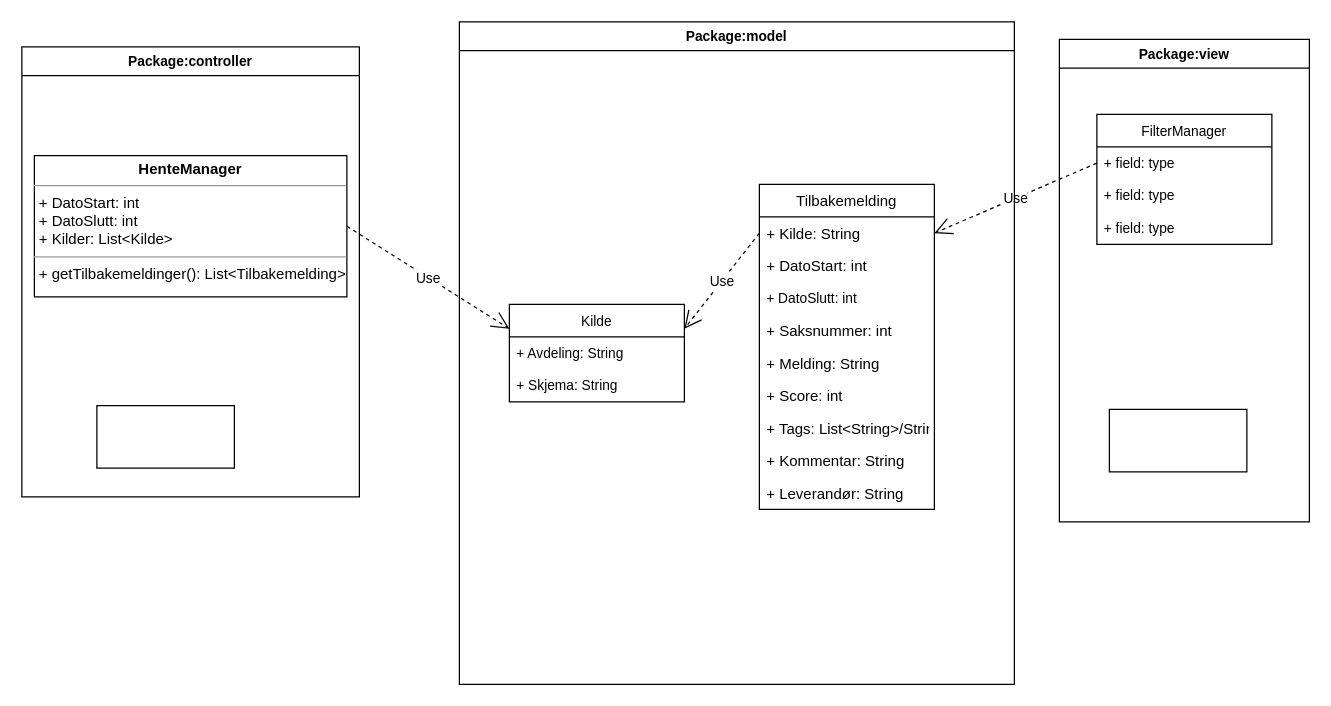
This 1331x706 diagram has some shape labels left out. The centre of each missing label's shape, as x and y in pixels:
"«interface» JSONDeserializer" goes at point (1177, 440).
"«interface» JSONSerializer" goes at point (165, 436).
